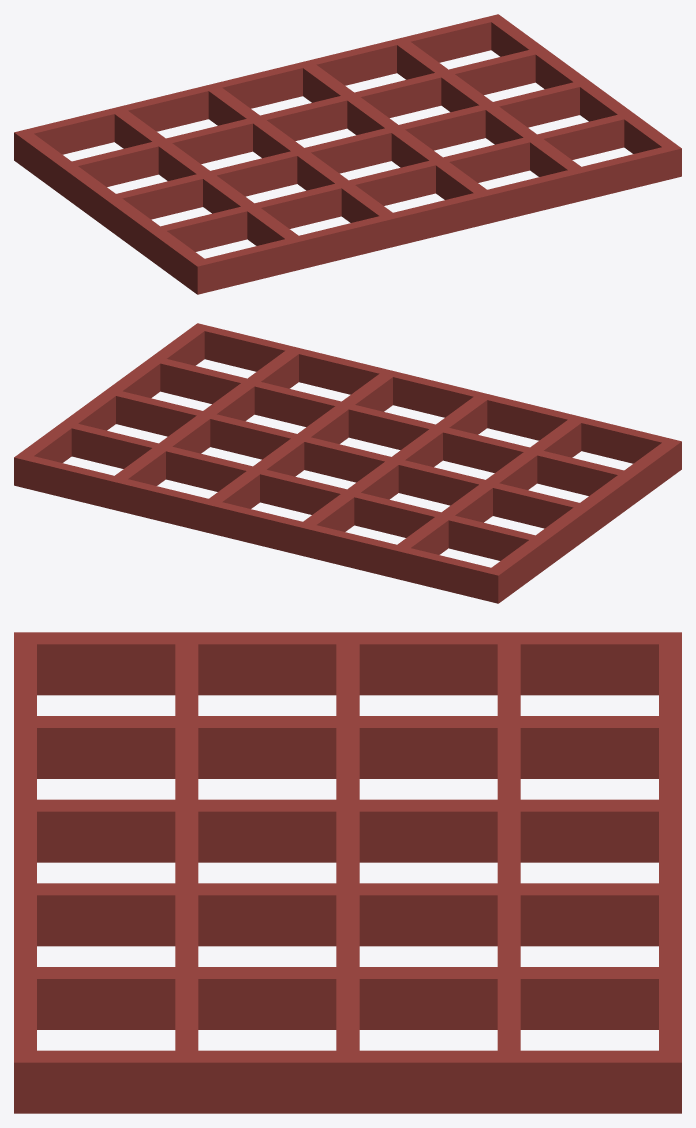
Rendered from casen_hole.glb.
3 views of the same model, one above another, from view 1: azimuth 30°, elevation 25°; view 2: azimuth 150°, elevation 25°; view 3: azimuth 270°, elevation 25° (orthographic). The views are drawn at different scales.
Visible parts, largest first — view 1: casen_hole; view 2: casen_hole; view 3: casen_hole.
Part boxes in pixels (left/top/right/bottom): casen_hole: left=14, top=14, right=681, bottom=294; casen_hole: left=14, top=323, right=681, bottom=603; casen_hole: left=14, top=632, right=681, bottom=1113.
Bounding box in the file's own units: 17.55 × 0.9735 × 11.51.
